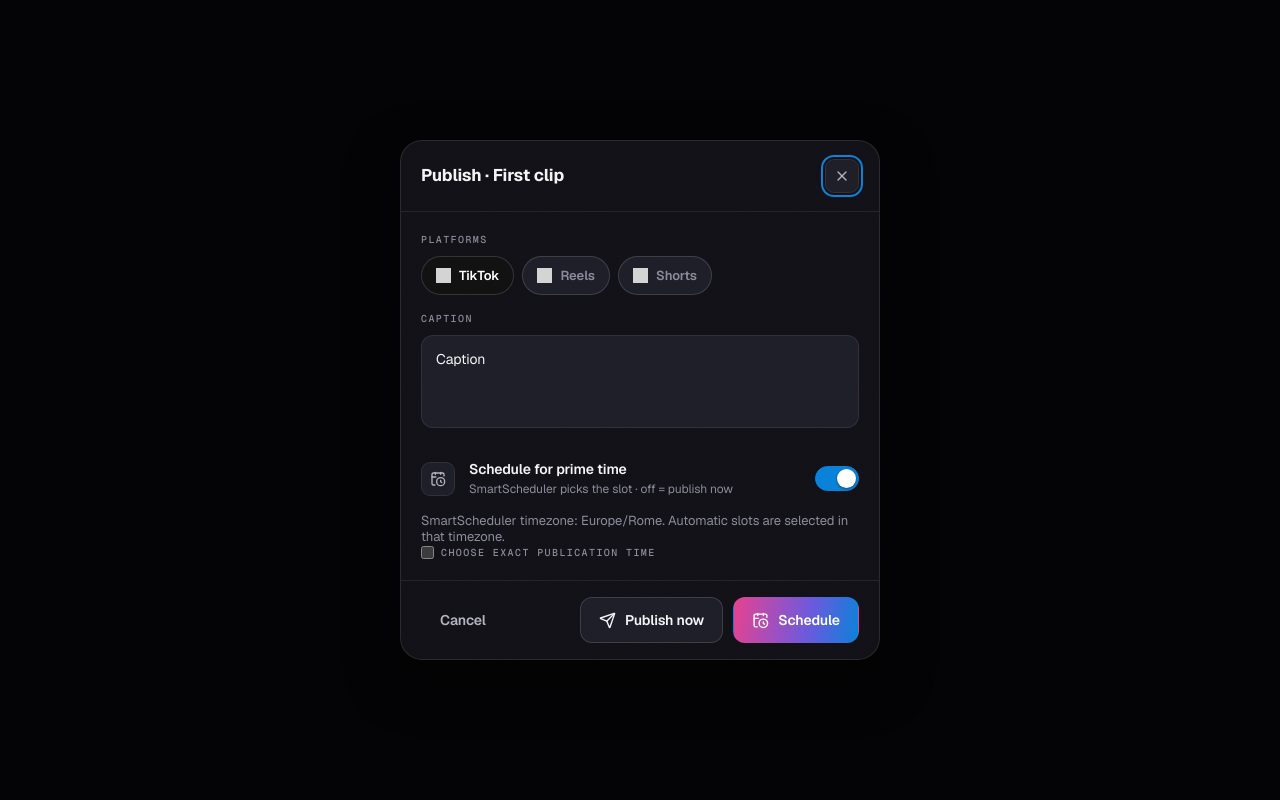
Test: a failed publish never shows success and keeps the Zernio error visible
Click the button "Publish now" at (652, 620), box [580, 597, 723, 643]
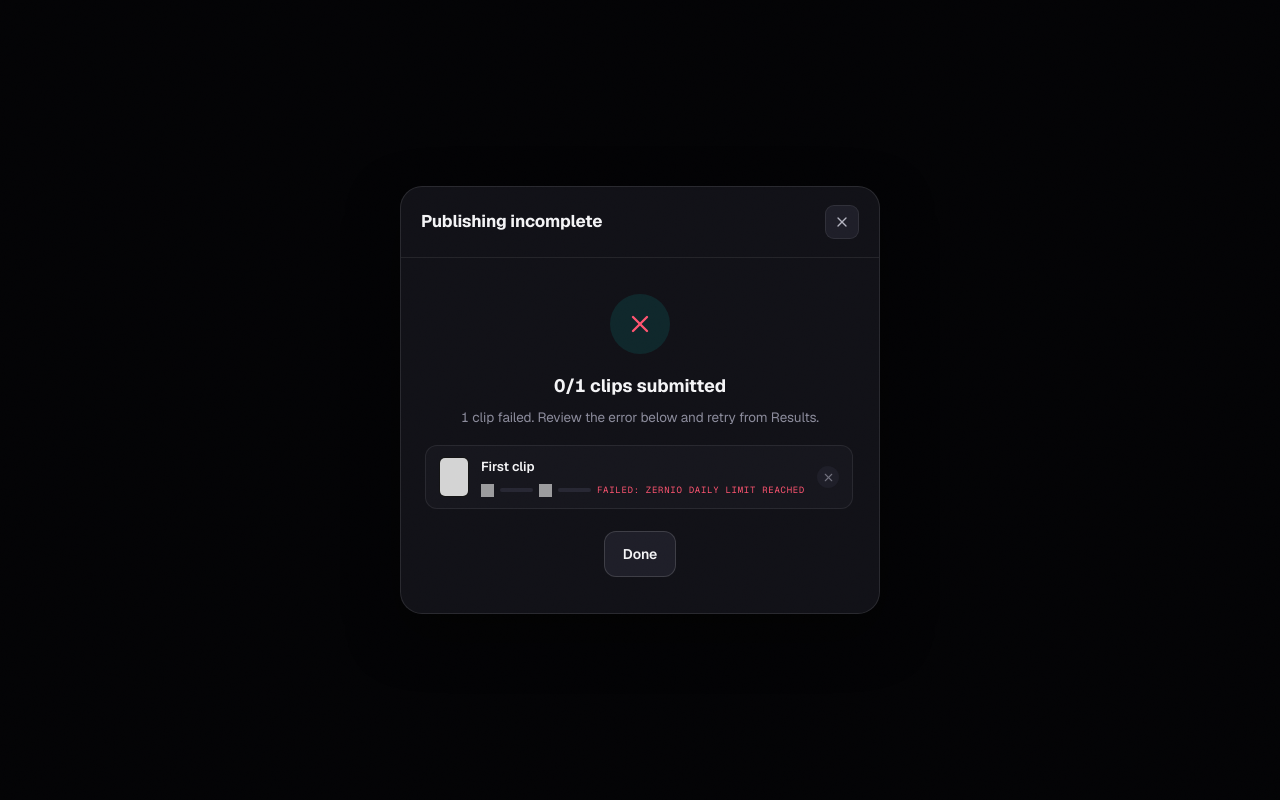
Check: the heading "Publishing incomplete" is shown, box [421, 209, 602, 235]
Check: the text "0/1 clips submitted" is shown, box [554, 374, 726, 397]
Check: the text "failed: Zernio daily limit reached" is shown, box [597, 484, 805, 497]
